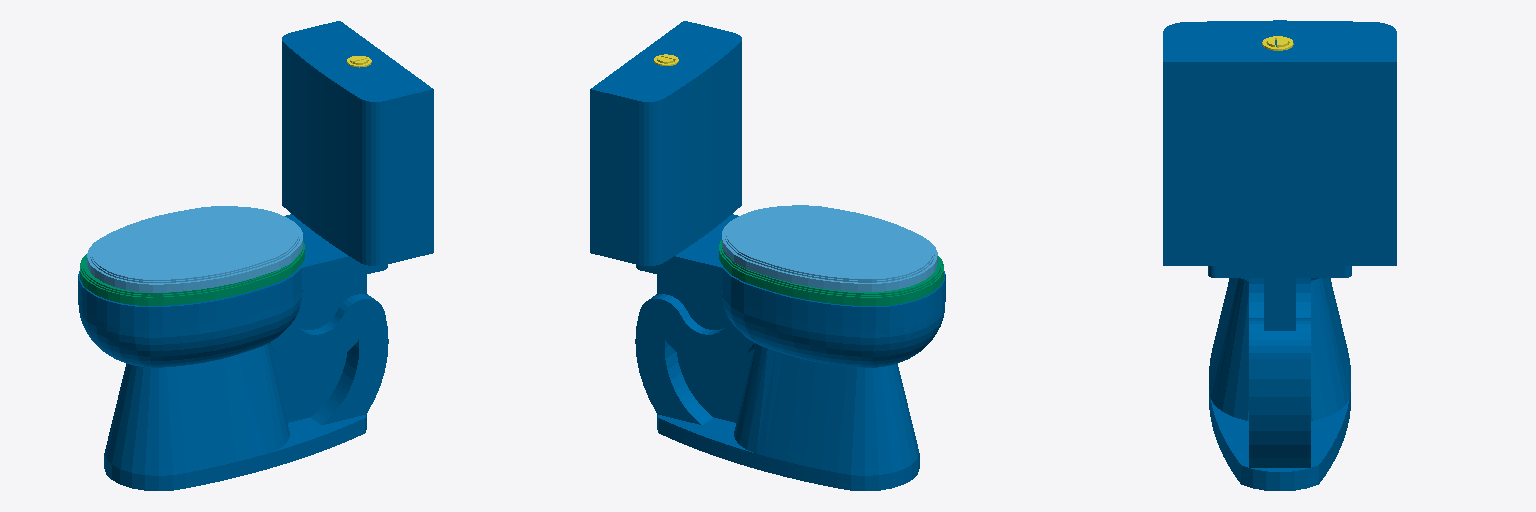
The robot description file, URDF, robot "partnet_ed0e5ab0168735def42a90fe4baf4591":
<robot name="partnet_ed0e5ab0168735def42a90fe4baf4591">
	<link name="base" />
	<link name="link_0">
		<collision>
			<origin xyz="0 -0.1559486400360477 0.1640691231088717" />
			<geometry>
				<mesh filename="new_objs/102701_link_0_0.obj" />
			</geometry>
		</collision>
	<visual name="lid-part[&quot;id]">
			<origin xyz="0 -0.1559486400360477 0.1640691231088717" />
			<geometry>
				<mesh filename="textured_objs/original-8.obj" />
			</geometry>
		</visual>
		</link>
	<joint name="joint_0" type="revolute">
		<origin xyz="0 0.1559486400360477 -0.1640691231088717" />
		<axis xyz="-1 0 0" />
		<child link="link_0" />
		<parent link="link_3" />
		<limit lower="-0.0" upper="1.631882850614698" />
	</joint>
	<link name="link_1">
		<collision>
			<origin xyz="0 -0.1559486400360477 0.1640691231088717" />
			<geometry>
				<mesh filename="new_objs/102701_link_1_2.obj" />
			</geometry>
		</collision>
	<collision>
			<origin xyz="0 -0.1559486400360477 0.1640691231088717" />
			<geometry>
				<mesh filename="new_objs/102701_link_1_1.obj" />
			</geometry>
		</collision>
	<collision>
			<origin xyz="0 -0.1559486400360477 0.1640691231088717" />
			<geometry>
				<mesh filename="new_objs/102701_link_1_5.obj" />
			</geometry>
		</collision>
	<collision>
			<origin xyz="0 -0.1559486400360477 0.1640691231088717" />
			<geometry>
				<mesh filename="new_objs/102701_link_1_4.obj" />
			</geometry>
		</collision>
	<collision>
			<origin xyz="0 -0.1559486400360477 0.1640691231088717" />
			<geometry>
				<mesh filename="new_objs/102701_link_1_7.obj" />
			</geometry>
		</collision>
	<collision>
			<origin xyz="0 -0.1559486400360477 0.1640691231088717" />
			<geometry>
				<mesh filename="new_objs/102701_link_1_0.obj" />
			</geometry>
		</collision>
	<collision>
			<origin xyz="0 -0.1559486400360477 0.1640691231088717" />
			<geometry>
				<mesh filename="new_objs/102701_link_1_3.obj" />
			</geometry>
		</collision>
	<collision>
			<origin xyz="0 -0.1559486400360477 0.1640691231088717" />
			<geometry>
				<mesh filename="new_objs/102701_link_1_6.obj" />
			</geometry>
		</collision>
	<visual name="seat-part[&quot;id]">
			<origin xyz="0 -0.1559486400360477 0.1640691231088717" />
			<geometry>
				<mesh filename="textured_objs/original-7.obj" />
			</geometry>
		</visual>
		</link>
	<joint name="joint_1" type="revolute">
		<origin xyz="0 0.1559486400360477 -0.1640691231088717" />
		<axis xyz="-1 0 0" />
		<child link="link_1" />
		<parent link="link_3" />
		<limit lower="-0.0" upper="1.631882850614698" />
	</joint>
	<link name="link_2">
		<collision>
			<origin xyz="0 0 0" />
			<geometry>
				<mesh filename="new_objs/102701_link_2_33.obj" />
			</geometry>
		</collision>
	<collision>
			<origin xyz="0 0 0" />
			<geometry>
				<mesh filename="new_objs/102701_link_2_11.obj" />
			</geometry>
		</collision>
	<collision>
			<origin xyz="0 0 0" />
			<geometry>
				<mesh filename="new_objs/102701_link_2_45.obj" />
			</geometry>
		</collision>
	<collision>
			<origin xyz="0 0 0" />
			<geometry>
				<mesh filename="new_objs/102701_link_2_8.obj" />
			</geometry>
		</collision>
	<collision>
			<origin xyz="0 0 0" />
			<geometry>
				<mesh filename="new_objs/102701_link_2_10.obj" />
			</geometry>
		</collision>
	<collision>
			<origin xyz="0 0 0" />
			<geometry>
				<mesh filename="new_objs/102701_link_2_24.obj" />
			</geometry>
		</collision>
	<collision>
			<origin xyz="0 0 0" />
			<geometry>
				<mesh filename="new_objs/102701_link_2_4.obj" />
			</geometry>
		</collision>
	<collision>
			<origin xyz="0 0 0" />
			<geometry>
				<mesh filename="new_objs/102701_link_2_41.obj" />
			</geometry>
		</collision>
	<collision>
			<origin xyz="0 0 0" />
			<geometry>
				<mesh filename="new_objs/102701_link_2_16.obj" />
			</geometry>
		</collision>
	<collision>
			<origin xyz="0 0 0" />
			<geometry>
				<mesh filename="new_objs/102701_link_2_29.obj" />
			</geometry>
		</collision>
	<collision>
			<origin xyz="0 0 0" />
			<geometry>
				<mesh filename="new_objs/102701_link_2_14.obj" />
			</geometry>
		</collision>
	<collision>
			<origin xyz="0 0 0" />
			<geometry>
				<mesh filename="new_objs/102701_link_2_44.obj" />
			</geometry>
		</collision>
	<collision>
			<origin xyz="0 0 0" />
			<geometry>
				<mesh filename="new_objs/102701_link_2_42.obj" />
			</geometry>
		</collision>
	<collision>
			<origin xyz="0 0 0" />
			<geometry>
				<mesh filename="new_objs/102701_link_2_15.obj" />
			</geometry>
		</collision>
	<collision>
			<origin xyz="0 0 0" />
			<geometry>
				<mesh filename="new_objs/102701_link_2_1.obj" />
			</geometry>
		</collision>
	<collision>
			<origin xyz="0 0 0" />
			<geometry>
				<mesh filename="new_objs/102701_link_2_37.obj" />
			</geometry>
		</collision>
	<collision>
			<origin xyz="0 0 0" />
			<geometry>
				<mesh filename="new_objs/102701_link_2_27.obj" />
			</geometry>
		</collision>
	<collision>
			<origin xyz="0 0 0" />
			<geometry>
				<mesh filename="new_objs/102701_link_2_21.obj" />
			</geometry>
		</collision>
	<collision>
			<origin xyz="0 0 0" />
			<geometry>
				<mesh filename="new_objs/102701_link_2_6.obj" />
			</geometry>
		</collision>
	<collision>
			<origin xyz="0 0 0" />
			<geometry>
				<mesh filename="new_objs/102701_link_2_31.obj" />
			</geometry>
		</collision>
	<collision>
			<origin xyz="0 0 0" />
			<geometry>
				<mesh filename="new_objs/102701_link_2_36.obj" />
			</geometry>
		</collision>
	<collision>
			<origin xyz="0 0 0" />
			<geometry>
				<mesh filename="new_objs/102701_link_2_39.obj" />
			</geometry>
		</collision>
	<collision>
			<origin xyz="0 0 0" />
			<geometry>
				<mesh filename="new_objs/102701_link_2_43.obj" />
			</geometry>
		</collision>
	<collision>
			<origin xyz="0 0 0" />
			<geometry>
				<mesh filename="new_objs/102701_link_2_13.obj" />
			</geometry>
		</collision>
	<collision>
			<origin xyz="0 0 0" />
			<geometry>
				<mesh filename="new_objs/102701_link_2_2.obj" />
			</geometry>
		</collision>
	<collision>
			<origin xyz="0 0 0" />
			<geometry>
				<mesh filename="new_objs/102701_link_2_18.obj" />
			</geometry>
		</collision>
	<collision>
			<origin xyz="0 0 0" />
			<geometry>
				<mesh filename="new_objs/102701_link_2_3.obj" />
			</geometry>
		</collision>
	<collision>
			<origin xyz="0 0 0" />
			<geometry>
				<mesh filename="new_objs/102701_link_2_23.obj" />
			</geometry>
		</collision>
	<collision>
			<origin xyz="0 0 0" />
			<geometry>
				<mesh filename="new_objs/102701_link_2_7.obj" />
			</geometry>
		</collision>
	<collision>
			<origin xyz="0 0 0" />
			<geometry>
				<mesh filename="new_objs/102701_link_2_46.obj" />
			</geometry>
		</collision>
	<collision>
			<origin xyz="0 0 0" />
			<geometry>
				<mesh filename="new_objs/102701_link_2_30.obj" />
			</geometry>
		</collision>
	<collision>
			<origin xyz="0 0 0" />
			<geometry>
				<mesh filename="new_objs/102701_link_2_0.obj" />
			</geometry>
		</collision>
	<collision>
			<origin xyz="0 0 0" />
			<geometry>
				<mesh filename="new_objs/102701_link_2_34.obj" />
			</geometry>
		</collision>
	<collision>
			<origin xyz="0 0 0" />
			<geometry>
				<mesh filename="new_objs/102701_link_2_32.obj" />
			</geometry>
		</collision>
	<collision>
			<origin xyz="0 0 0" />
			<geometry>
				<mesh filename="new_objs/102701_link_2_17.obj" />
			</geometry>
		</collision>
	<collision>
			<origin xyz="0 0 0" />
			<geometry>
				<mesh filename="new_objs/102701_link_2_40.obj" />
			</geometry>
		</collision>
	<collision>
			<origin xyz="0 0 0" />
			<geometry>
				<mesh filename="new_objs/102701_link_2_26.obj" />
			</geometry>
		</collision>
	<collision>
			<origin xyz="0 0 0" />
			<geometry>
				<mesh filename="new_objs/102701_link_2_22.obj" />
			</geometry>
		</collision>
	<collision>
			<origin xyz="0 0 0" />
			<geometry>
				<mesh filename="new_objs/102701_link_2_28.obj" />
			</geometry>
		</collision>
	<collision>
			<origin xyz="0 0 0" />
			<geometry>
				<mesh filename="new_objs/102701_link_2_5.obj" />
			</geometry>
		</collision>
	<collision>
			<origin xyz="0 0 0" />
			<geometry>
				<mesh filename="new_objs/102701_link_2_25.obj" />
			</geometry>
		</collision>
	<collision>
			<origin xyz="0 0 0" />
			<geometry>
				<mesh filename="new_objs/102701_link_2_9.obj" />
			</geometry>
		</collision>
	<collision>
			<origin xyz="0 0 0" />
			<geometry>
				<mesh filename="new_objs/102701_link_2_12.obj" />
			</geometry>
		</collision>
	<collision>
			<origin xyz="0 0 0" />
			<geometry>
				<mesh filename="new_objs/102701_link_2_38.obj" />
			</geometry>
		</collision>
	<collision>
			<origin xyz="0 0 0" />
			<geometry>
				<mesh filename="new_objs/102701_link_2_19.obj" />
			</geometry>
		</collision>
	<collision>
			<origin xyz="0 0 0" />
			<geometry>
				<mesh filename="new_objs/102701_link_2_20.obj" />
			</geometry>
		</collision>
	<collision>
			<origin xyz="0 0 0" />
			<geometry>
				<mesh filename="new_objs/102701_link_2_35.obj" />
			</geometry>
		</collision>
	<visual name="button-part[&quot;id]">
			<origin xyz="0 0 0" />
			<geometry>
				<mesh filename="textured_objs/original-1.obj" />
			</geometry>
		</visual>
		</link>
	<joint name="joint_2" type="prismatic">
		<origin xyz="0 0 0" />
		<axis xyz="0 -1 0" />
		<child link="link_2" />
		<parent link="link_3" />
		<limit lower="0" upper="0.004" />
	</joint>
	<link name="link_3">
		<collision>
			<origin xyz="0 0 0" />
			<geometry>
				<mesh filename="new_objs/102701_link_3_4.obj" />
			</geometry>
		</collision>
		<collision>
			<origin xyz="0 0 0" />
			<geometry>
				<mesh filename="new_objs/102701_link_3_16.obj" />
			</geometry>
		</collision>
		<collision>
			<origin xyz="0 0 0" />
			<geometry>
				<mesh filename="new_objs/102701_link_3_1.obj" />
			</geometry>
		</collision>
		<collision>
			<origin xyz="0 0 0" />
			<geometry>
				<mesh filename="new_objs/102701_link_3_0.obj" />
			</geometry>
		</collision>
		<collision>
			<origin xyz="0 0 0" />
			<geometry>
				<mesh filename="new_objs/102701_link_3_2.obj" />
			</geometry>
		</collision>
		<collision>
			<origin xyz="0 0 0" />
			<geometry>
				<mesh filename="new_objs/102701_link_3_8.obj" />
			</geometry>
		</collision>
		<collision>
			<origin xyz="0 0 0" />
			<geometry>
				<mesh filename="new_objs/102701_link_3_11.obj" />
			</geometry>
		</collision>
		<collision>
			<origin xyz="0 0 0" />
			<geometry>
				<mesh filename="new_objs/102701_link_3_14.obj" />
			</geometry>
		</collision>
		<collision>
			<origin xyz="0 0 0" />
			<geometry>
				<mesh filename="new_objs/102701_link_3_12.obj" />
			</geometry>
		</collision>
		<collision>
			<origin xyz="0 0 0" />
			<geometry>
				<mesh filename="new_objs/102701_link_3_13.obj" />
			</geometry>
		</collision>
		<collision>
			<origin xyz="0 0 0" />
			<geometry>
				<mesh filename="new_objs/102701_link_3_15.obj" />
			</geometry>
		</collision>
		<collision>
			<origin xyz="0 0 0" />
			<geometry>
				<mesh filename="new_objs/102701_link_3_17.obj" />
			</geometry>
		</collision>
		<collision>
			<origin xyz="0 0 0" />
			<geometry>
				<mesh filename="new_objs/102701_link_3_6.obj" />
			</geometry>
		</collision>
		<collision>
			<origin xyz="0 0 0" />
			<geometry>
				<mesh filename="new_objs/102701_link_3_10.obj" />
			</geometry>
		</collision>
		<collision>
			<origin xyz="0 0 0" />
			<geometry>
				<mesh filename="new_objs/102701_link_3_3.obj" />
			</geometry>
		</collision>
		<collision>
			<origin xyz="0 0 0" />
			<geometry>
				<mesh filename="new_objs/102701_link_3_5.obj" />
			</geometry>
		</collision>
		<collision>
			<origin xyz="0 0 0" />
			<geometry>
				<mesh filename="new_objs/102701_link_3_9.obj" />
			</geometry>
		</collision>
		<collision>
			<origin xyz="0 0 0" />
			<geometry>
				<mesh filename="new_objs/102701_link_3_7.obj" />
			</geometry>
		</collision>
		<visual name="base_body-part[&quot;id]">
			<origin xyz="0 0 0" />
			<geometry>
				<mesh filename="textured_objs/original-4.obj" />
			</geometry>
		</visual>
		<visual name="base_body-part[&quot;id]">
			<origin xyz="0 0 0" />
			<geometry>
				<mesh filename="textured_objs/original-3.obj" />
			</geometry>
		</visual>
		<visual name="base_body-part[&quot;id]">
			<origin xyz="0 0 0" />
			<geometry>
				<mesh filename="textured_objs/original-5.obj" />
			</geometry>
		</visual>
		</link>
	<joint name="joint_3" type="fixed">
		<origin rpy="1.570796326794897 0 -1.570796326794897" xyz="0 0 0" />
		<child link="link_3" />
		<parent link="base" />
	</joint>
</robot>

--- What the picture shows (computed from the rendered views, not written in the file) ---
Views: 3 orthographic renders of the robot side by side, from view 1: azimuth 30°, elevation 25°; view 2: azimuth 150°, elevation 25°; view 3: azimuth 270°, elevation 25°.
Robot: partnet_ed0e5ab0168735def42a90fe4baf4591 — 5 links, 4 joints (2 revolute, 1 prismatic, 1 fixed); root link base; default pose: every joint at zero.
Visible links, largest first — view 1: link_3, link_0, link_1; view 2: link_3, link_0, link_1; view 3: link_3.
Boxes of the visible links, x1,y1,x2,y2 form: link_3: (78,21,433,490); link_0: (87,206,302,292); link_1: (80,242,304,305); link_3: (590,21,945,490); link_0: (722,205,937,291); link_1: (719,240,943,305); link_3: (1163,20,1396,490).
Bounding box of the posed robot: 1.29 × 0.701 × 1.49 m (x, y, z).
6 mesh visuals loaded from 6 distinct referenced files (6 OBJ).
